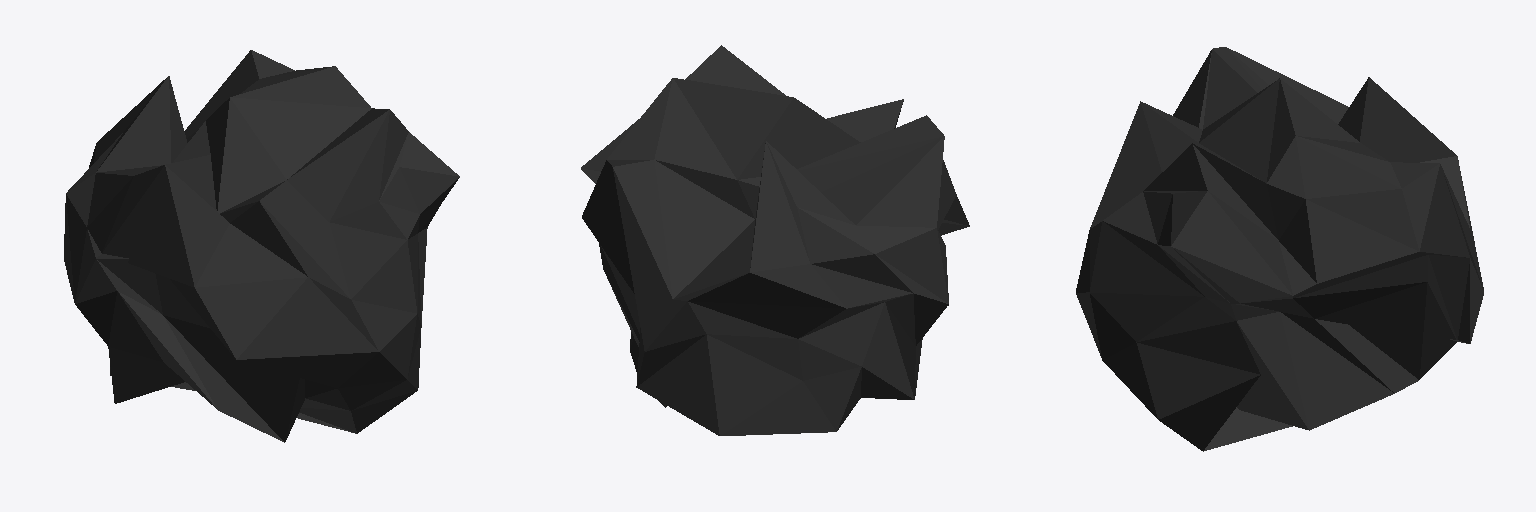
File: trash.obj
3 renders of one model, left to right at view 1: azimuth 30°, elevation 25°; view 2: azimuth 150°, elevation 25°; view 3: azimuth 270°, elevation 25°, orthographic.
Visible parts, largest first — view 1: Cube; view 2: Cube; view 3: Cube.
Part boxes in pixels (x1,y1,x2,y2): Cube: (64,50,459,442); Cube: (581,45,969,435); Cube: (1076,47,1483,451).
Bounding box in the file's own units: 1.72 × 1.5 × 1.68.